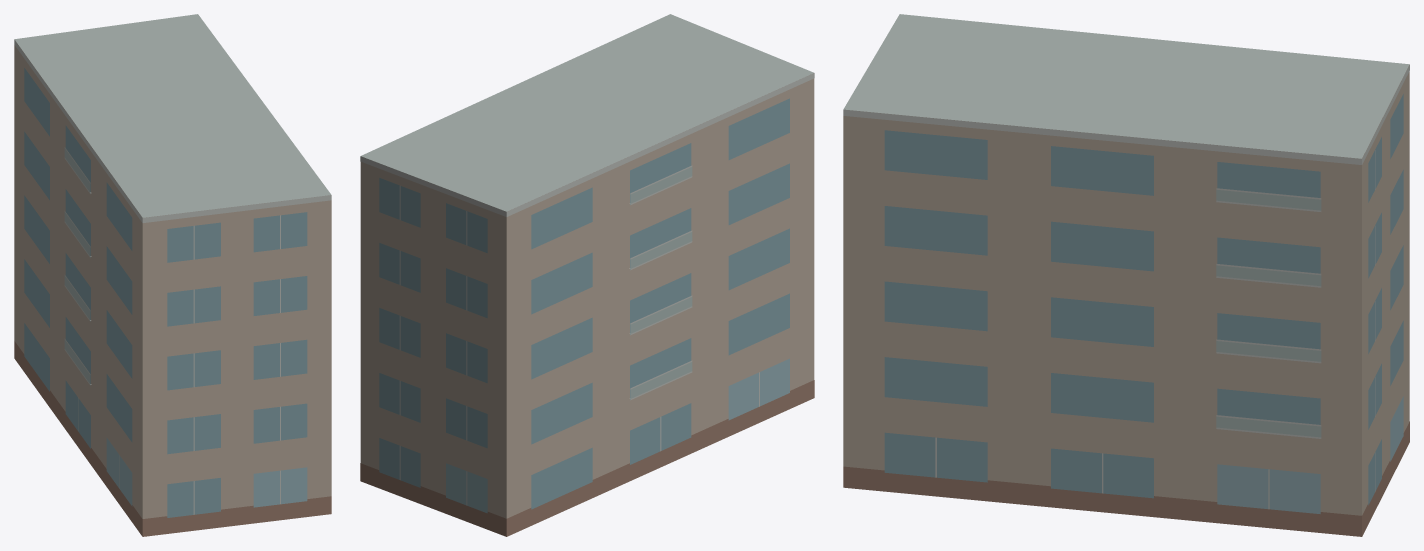
File: survey-upis-33008213.glb
3 views of the same model, side by side, from view 1: azimuth 30°, elevation 25°; view 2: azimuth 150°, elevation 25°; view 3: azimuth 270°, elevation 25° (orthographic). The views are drawn at different scales.
Visible parts, largest first — view 1: survey-upis-33008213.tmp; view 2: survey-upis-33008213.tmp; view 3: survey-upis-33008213.tmp.
Part boxes in pixels (x1,y1,x2,y2): survey-upis-33008213.tmp: (14,14,331,536); survey-upis-33008213.tmp: (360,14,814,536); survey-upis-33008213.tmp: (843,14,1409,536).
Size of the model in its own units: 12 by 14.6 by 19.83.
